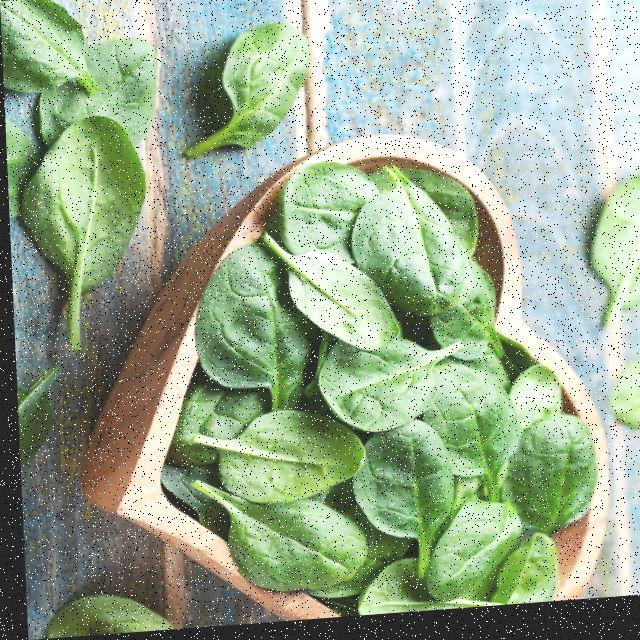Spinach: (128, 144, 608, 633), (0, 0, 177, 361), (158, 19, 319, 176)
